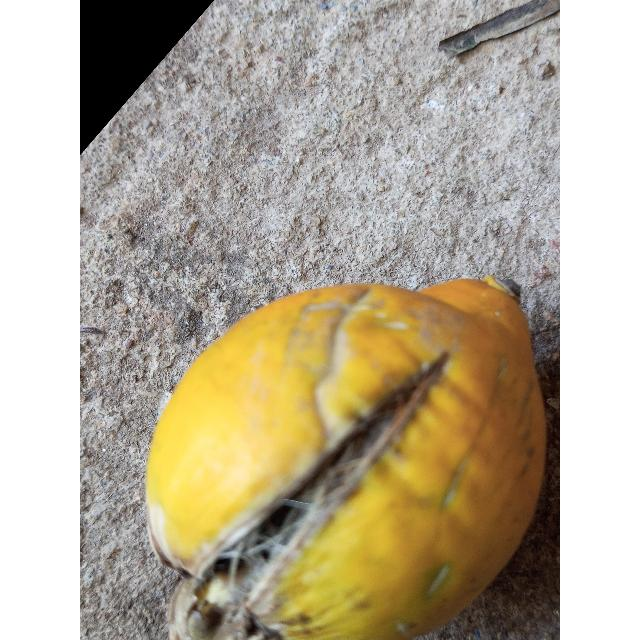damaged: (146, 278, 545, 640)
